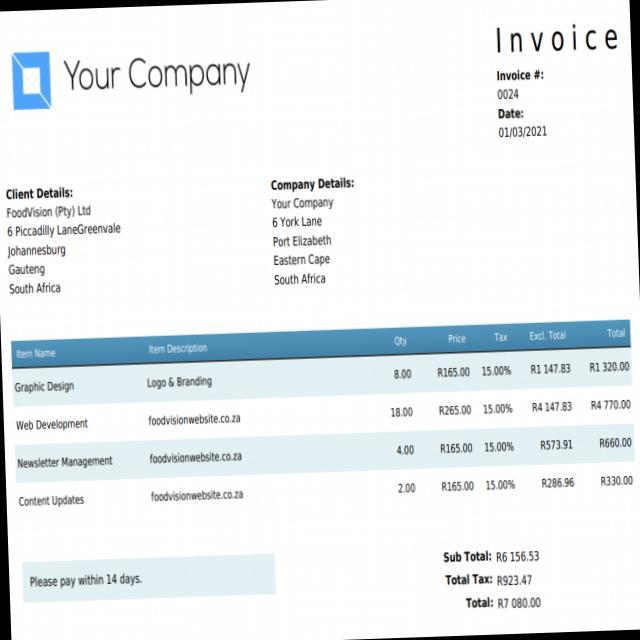customer_address: (5, 223, 134, 314)
invoice_date: (495, 122, 553, 141)
invoice_number: (491, 82, 526, 102)
invoice_total: (584, 353, 636, 494)
item_description: (143, 370, 250, 516)
item_quantity: (385, 360, 420, 504)
item_unit_price: (432, 360, 478, 498)
supplier_address: (267, 212, 341, 292)
supplier_name: (61, 52, 255, 99), (3, 202, 98, 222), (270, 193, 336, 211)
tax_amount: (496, 572, 541, 587)
